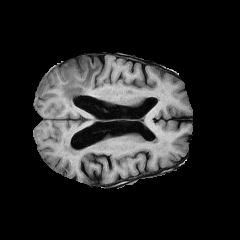glioma: (60, 62, 99, 107)
